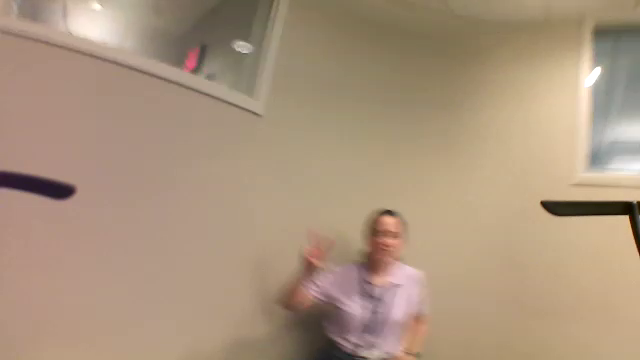peace: (294, 219, 338, 273)
